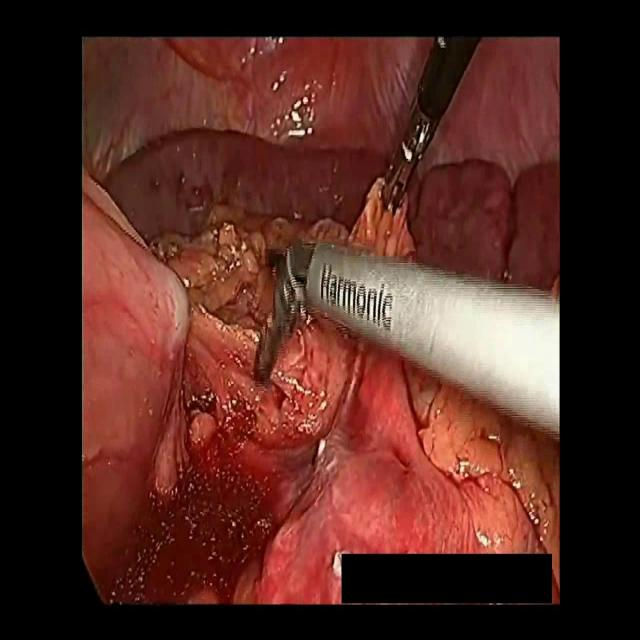surgical-area: (82, 36, 560, 604)
surgical-tool: (284, 237, 560, 444), (376, 36, 482, 219)
